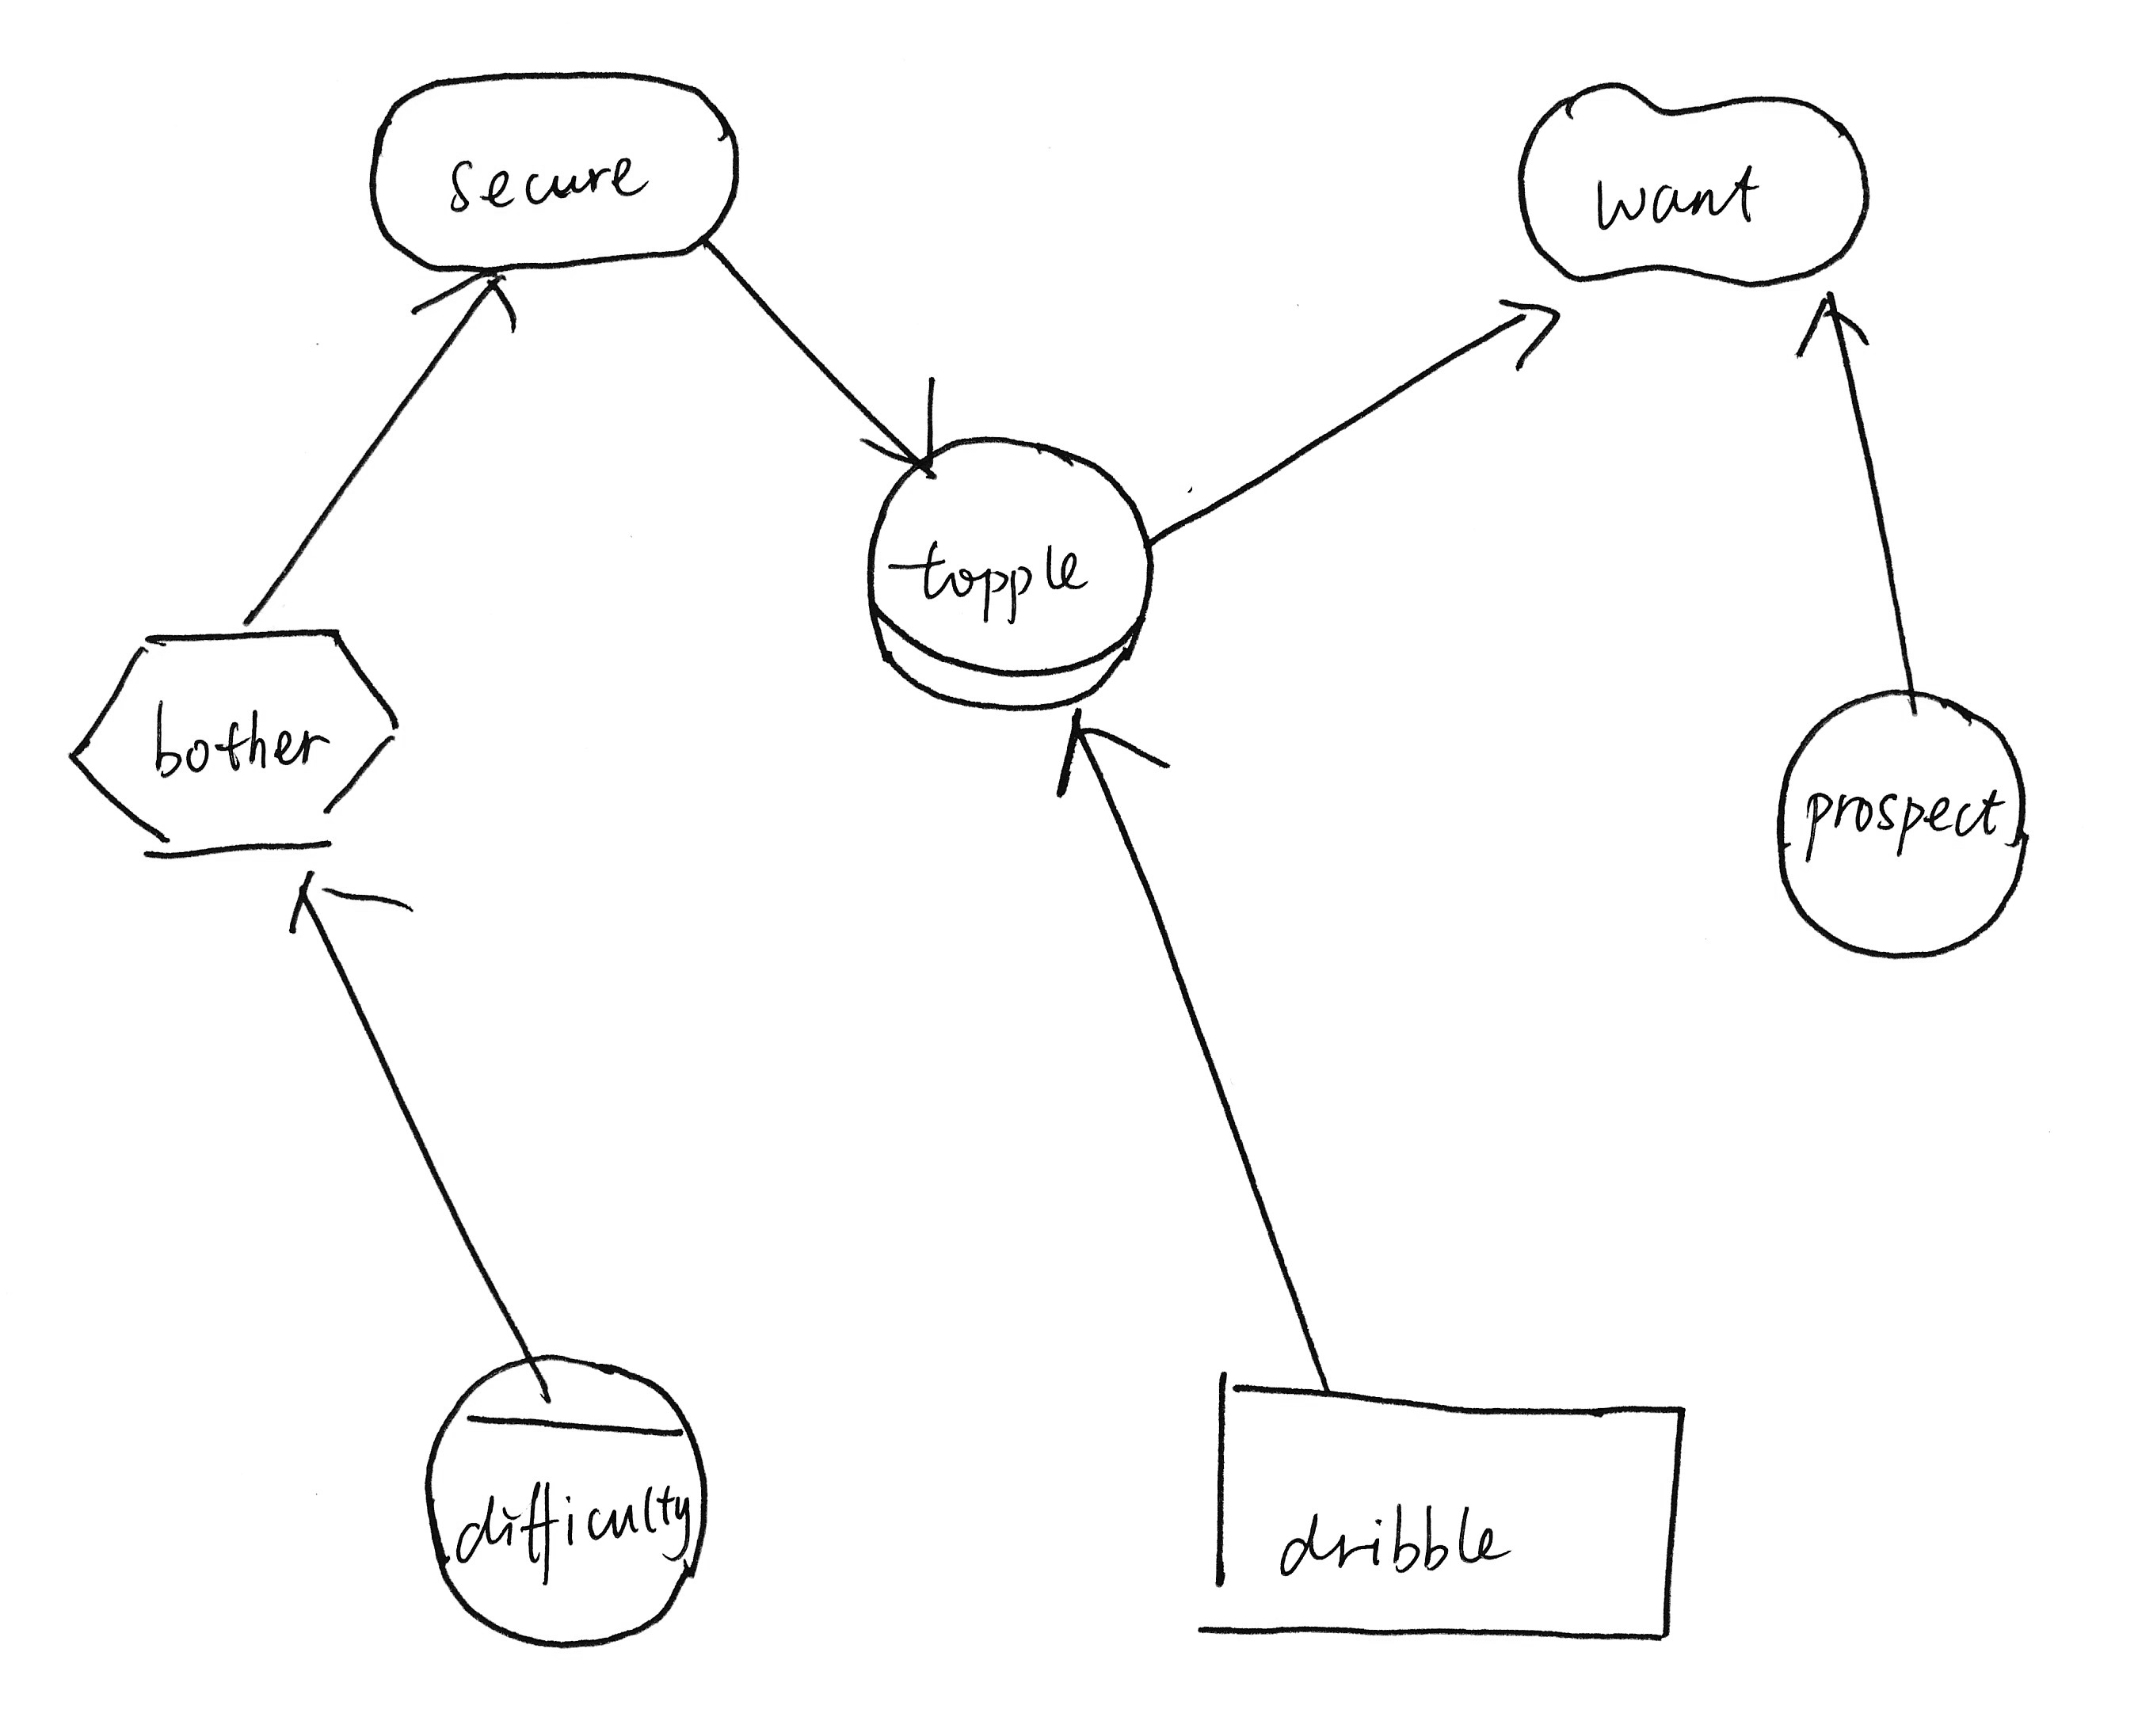actor: (1755, 677, 2044, 971)
agent: (402, 1339, 728, 1662)
arrow: (1026, 700, 1185, 818), (276, 856, 425, 953), (843, 367, 955, 494), (404, 257, 535, 351), (1784, 285, 1890, 370), (1483, 283, 1575, 381)
goal: (356, 62, 758, 287)
quality: (1500, 57, 1886, 299)
resource: (1171, 1357, 1709, 1672)
role: (854, 423, 1169, 725)
task: (51, 609, 425, 875)
